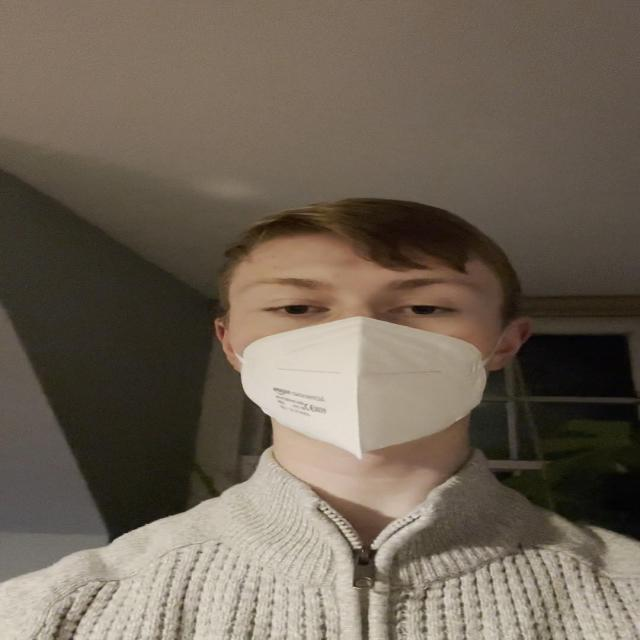no-helmet: (220, 234, 504, 458)
